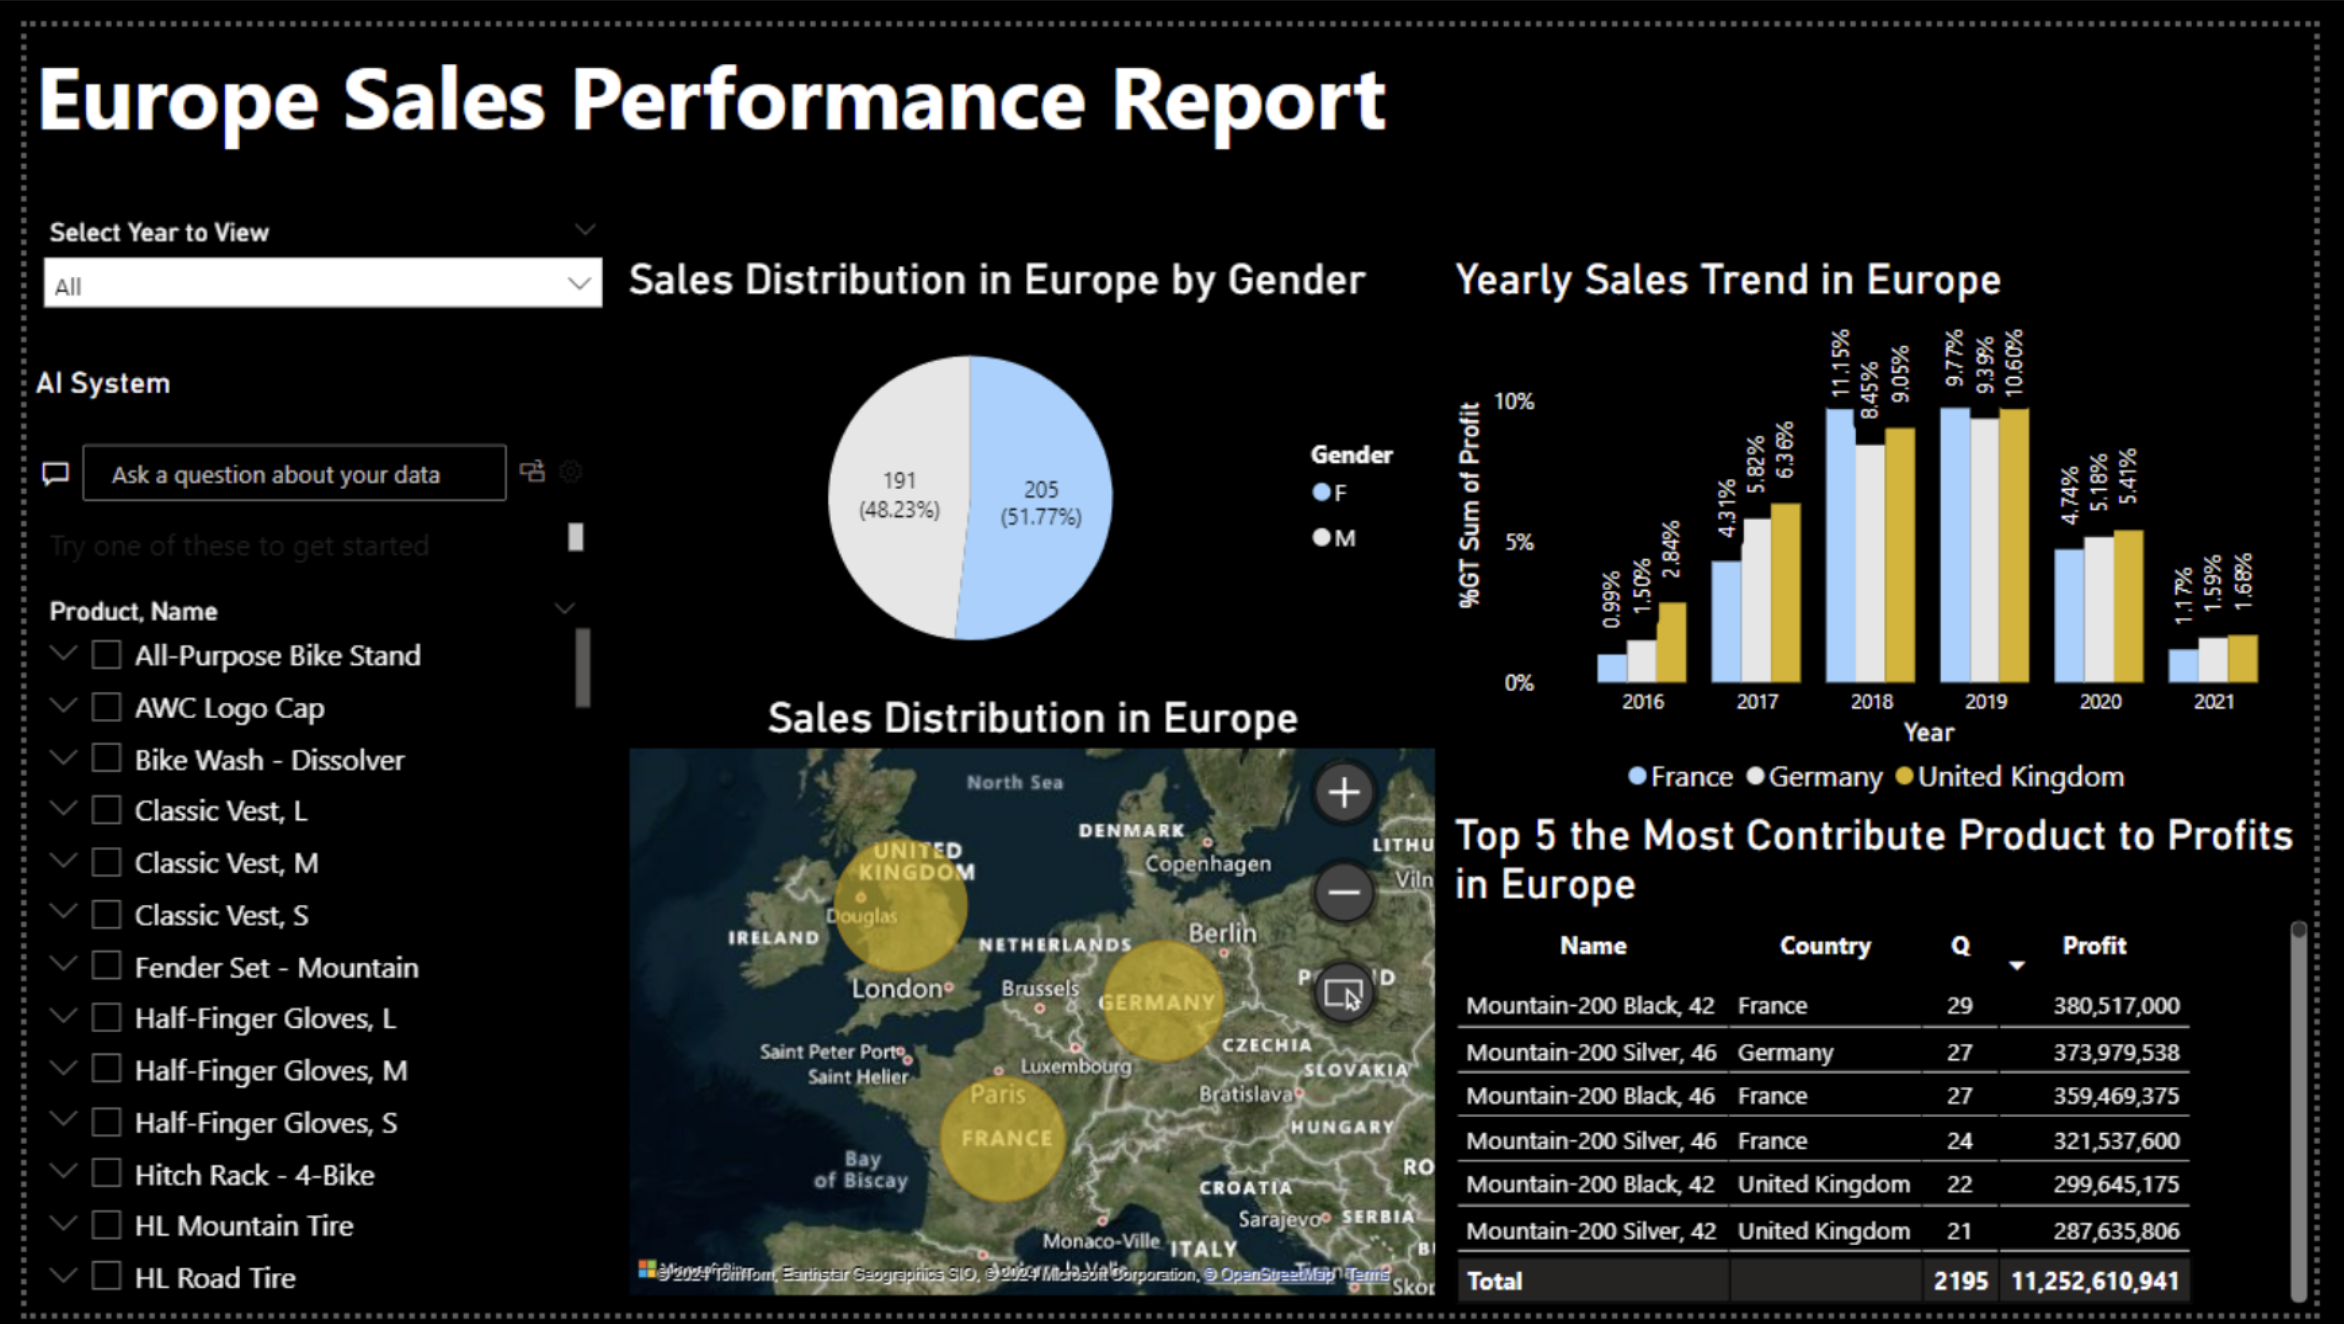

What the dashboard file says about the page in this screenshot:
{"tool":"powerbi","page":{"name":"Europe Sales Performance Report","canvas":[1280,720],"ordinal":0},"visuals":[{"type":"clusteredColumnChart","title":"Yearly Sales Trend in Europe","fields":{"Category":["Sheet1.order_date.Variation.Date Hierarchy.Year"],"Series":["Sheet1.customer_country"],"Y":["Sum(Sheet1.Profit perorder)"]},"box":[793.8,126.6,485.9,312.5],"z":0},{"type":"tableEx","title":"Top 5 the Most Contribute Product to Profits in Europe ","fields":{"Values":["Sheet1.product_name","Sheet1.territory_country","Sum(Sheet1.quantity)","Sum(Sheet1.Profit perorder)"]},"box":[793.3,438.3,486.7,281.7],"z":1000},{"type":"textbox","box":[0,0,788.3,101.7],"z":2000},{"type":"map","title":"Sales Distribution in Europe","fields":{"Category":["Sheet1.territory_country"],"Size":["Sum(Sheet1.quantity)"]},"box":[331.7,371.7,461.7,345],"z":3000},{"type":"qnaVisual","title":"AI System","box":[0,190,320,123.3],"z":5000},{"type":"slicer","fields":{"Values":["Sheet1.order_date.Variation.Date Hierarchy.Year","Sheet1.territory_country","Sheet1.category","Sheet1.sub_category","Sheet1.totalprice_rupiah"]},"box":[0,101.7,331.7,88.3],"z":5001},{"type":"slicer","title":"Product Name","fields":{"Values":["Sheet1.product_name","Sheet1.territory_country"]},"box":[0,313.3,320,403.3],"z":5002},{"type":"pieChart","title":"Sales Distribution in Europe by Gender ","fields":{"Category":["Sheet1.gender","Sheet1.territory_country"],"Y":["Count(Sheet1.customer_id)"]},"box":[331.2,126.6,457.8,245.3],"z":5004}]}

Visuals, with their boxes in screenshot pixels (x1, y1, x2, y2), scaled from the page's 1280x720 canvas onto the 2344x1324 screenshot:
"Yearly Sales Trend in Europe" clusteredColumnChart: [1454, 233, 2343, 807]
"Top 5 the Most Contribute Product to Profits in Europe " tableEx: [1453, 806, 2343, 1323]
textbox: [0, 0, 1444, 187]
"Sales Distribution in Europe" map: [607, 684, 1453, 1318]
"AI System" qnaVisual: [0, 349, 586, 576]
slicer - Sheet1.order_date.Variation.Date Hierarchy.Year x Sheet1.territory_country: [0, 187, 607, 349]
"Product Name" slicer: [0, 576, 586, 1318]
"Sales Distribution in Europe by Gender " pieChart: [607, 233, 1445, 684]
